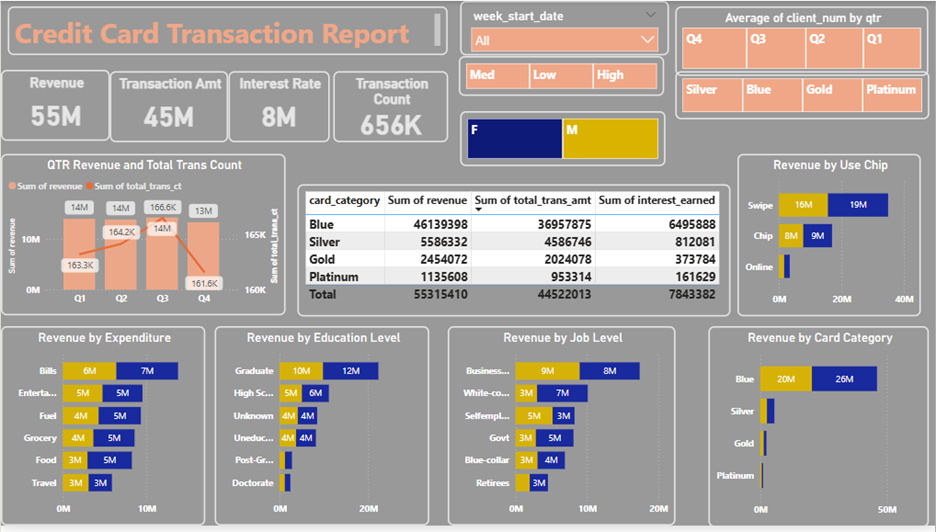

What the dashboard file says about the page in this screenshot:
{"tool":"powerbi","page":{"name":"Credit_Card_Transaction","canvas":[1280,720],"ordinal":1},"visuals":[{"type":"textbox","box":[9.5,8,602.8,66.8],"z":0},{"type":"lineStackedColumnComboChart","title":"QTR Revenue and Total Trans Count","fields":{"Category":["public cc_detail.qtr"],"Y":["Sum(public cc_detail.revenue)"],"Y2":["Sum(public cc_detail.total_trans_ct)"]},"box":[0,210,389.7,221.1],"z":1000},{"type":"barChart","title":"Revenue by Expenditure","fields":{"Y":["Sum(public cc_detail.revenue)"],"Category":["public cc_detail.exp_type"],"Series":["public cust_detail.gender"]},"box":[0,445.4,279.9,273.6],"z":2000},{"type":"barChart","title":"Revenue by Education Level","fields":{"Y":["Sum(public cc_detail.revenue)"],"Category":["public cust_detail.education_level"],"Series":["public cust_detail.gender"]},"box":[292.7,445.4,294.3,273.6],"z":3000},{"type":"barChart","title":"Revenue by Job Level","fields":{"Y":["Sum(public cc_detail.revenue)"],"Category":["public cust_detail.customer_job"],"Series":["public cust_detail.gender"]},"box":[612.4,445.4,311.8,273.6],"z":4000},{"type":"barChart","title":"Revenue by Card Category","fields":{"Y":["Sum(public cc_detail.revenue)"],"Category":["public cc_detail.card_category"],"Series":["public cust_detail.gender"]},"box":[968.7,445.4,302.2,275.2],"z":5000},{"type":"barChart","title":"Revenue by Use Chip","fields":{"Y":["Sum(public cc_detail.revenue)"],"Category":["public cc_detail.use_chip"],"Series":["public cust_detail.gender"]},"box":[1010,210,251.3,222.7],"z":6000},{"type":"tableEx","fields":{"Values":["public cc_detail.card_category","Sum(public cc_detail.revenue)","Sum(public cc_detail.total_trans_amt)","Sum(public cc_detail.interest_earned)"]},"box":[405.6,251.3,593.3,181.3],"z":7000},{"type":"card","title":"Revenue","fields":{"Values":["Sum(public cc_detail.revenue)"]},"box":[0,93.8,149.5,97],"z":8000},{"type":"card","title":"Transaction Amt","fields":{"Values":["Sum(public cc_detail.total_trans_amt)"]},"box":[149.5,97,162.2,97],"z":9000},{"type":"card","title":"Interest Rate","fields":{"Values":["Sum(public cc_detail.interest_earned)"]},"box":[311.8,95.4,138.4,97],"z":10000},{"type":"card","title":"Transaction Count","fields":{"Values":["Sum(public cc_detail.total_trans_ct)"]},"box":[454.9,97,157.5,97],"z":11000},{"type":"slicer","fields":{"Values":["public cc_detail.week_start_date"]},"box":[629.9,0,286.3,74.8],"z":12000},{"type":"treemap","fields":{"Group":["public cc_detail.qtr"],"Values":["Avg(public cc_detail.client_num)"]},"box":[924.1,8,346.8,95.4],"z":13000},{"type":"treemap","fields":{"Values":["Avg(public cc_detail.client_num)"],"Group":["public cust_detail.gender"]},"box":[629.3,151.2,281.6,75.6],"z":14000},{"type":"treemap","fields":{"Values":["Avg(public cc_detail.client_num)"],"Group":["public cc_detail.card_category"]},"box":[924.1,96.4,347.7,66.1],"z":15000},{"type":"treemap","fields":{"Values":["Avg(public cc_detail.client_num)"],"Group":["public cust_detail.IncomeGroup"]},"box":[627.4,75.6,281.6,54.8],"z":16000}]}

Visuals, with their boxes in screenshot pixels (x1, y1, x2, y2), scaled from the page's 1280x720 canvas onto the 936x532 screenshot:
textbox: select_region(7, 6, 448, 55)
"QTR Revenue and Total Trans Count" lineStackedColumnComboChart: select_region(0, 155, 285, 319)
"Revenue by Expenditure" barChart: select_region(0, 329, 205, 531)
"Revenue by Education Level" barChart: select_region(214, 329, 429, 531)
"Revenue by Job Level" barChart: select_region(448, 329, 676, 531)
"Revenue by Card Category" barChart: select_region(708, 329, 929, 531)
"Revenue by Use Chip" barChart: select_region(739, 155, 922, 320)
tableEx - public cc_detail.card_category x Sum(public cc_detail.revenue): select_region(297, 186, 730, 320)
"Revenue" card: select_region(0, 69, 109, 141)
"Transaction Amt" card: select_region(109, 72, 228, 143)
"Interest Rate" card: select_region(228, 70, 329, 142)
"Transaction Count" card: select_region(333, 72, 448, 143)
slicer - public cc_detail.week_start_date: select_region(461, 0, 670, 55)
treemap - public cc_detail.qtr x Avg(public cc_detail.client_num): select_region(676, 6, 929, 76)
treemap - Avg(public cc_detail.client_num) x public cust_detail.gender: select_region(460, 112, 666, 168)
treemap - Avg(public cc_detail.client_num) x public cc_detail.card_category: select_region(676, 71, 930, 120)
treemap - Avg(public cc_detail.client_num) x public cust_detail.IncomeGroup: select_region(459, 56, 665, 96)
